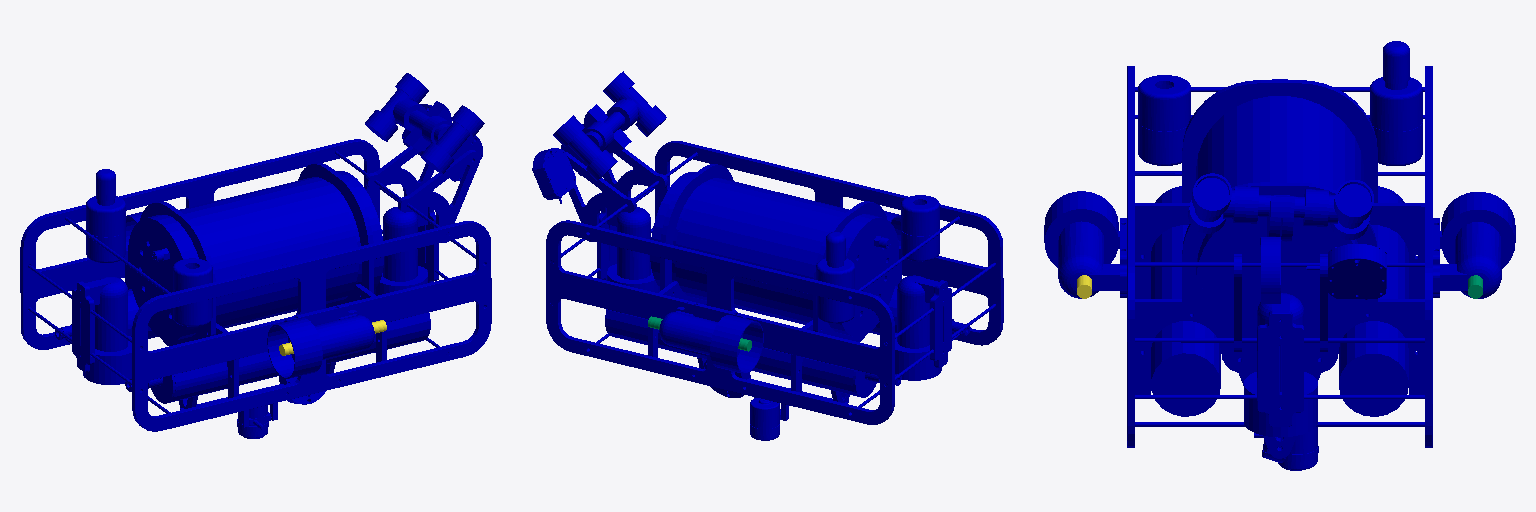
The robot description file, URDF, robot "charle_xacro":
<?xml version="1.0" ?>
<!-- =================================================================================== -->
<!-- |    This document was autogenerated by xacro from charle.xacro                   | -->
<!-- |    EDITING THIS FILE BY HAND IS NOT RECOMMENDED                                 | -->
<!-- =================================================================================== -->
<robot name="charle_xacro" xmlns:controller="http://playerstage.sourceforge.net/gazebo/xmlschema/#controller" xmlns:interface="http://playerstage.sourceforge.net/gazebo/xmlschema/#interface" xmlns:sensor="http://playerstage.sourceforge.net/gazebo/xmlschema/#sensor" xmlns:xacro="http://www.ros.org/wiki/xacro">
  <!--<xacro:include filename="$(find erratic_description)/urdf/erratic_hokuyo_laser.xacro" />-->
  <!-- BASE LASER ATTACHMENT -->
  <!--<erratic_hokuyo_laser parent="sonarDato">
  		<origin xyz="0.0 0 0.0" rpy="0 0 0" />
  	</erratic_hokuyo_laser>

   -->
  <link name="base_footprint">
    <visual>
      <geometry>
        <box size="0.001 0.001 0.001"/>
      </geometry>
      <origin rpy="0 0 0" xyz="0 0 0"/>
    </visual>
    <collision>
      <geometry>
        <box size="0.2 .3 0.1"/>
      </geometry>
    </collision>
    <inertial>
      <mass value="0.0001"/>
      <inertia ixx="1.0" ixy="0.0" ixz="0.0" iyy="1.0" iyz="0.0" izz="1.0"/>
    </inertial>
  </link>
  <gazebo reference="base_footprint">
    <material>Gazebo/Green</material>
    <turnGravityOff>false</turnGravityOff>
  </gazebo>
  <joint name="base_footprint_joint" type="fixed">
    <origin xyz="0 0 0"/>
    <parent link="base_footprint"/>
    <child link="base_link"/>
  </joint>
  <link name="base_link">
    <visual>
      <origin rpy="1.57 0 0" xyz="0 0 0"/>
      <geometry>
        <mesh filename="package://charle_description/urdf/AVORA_body_stl.STL" scale="0.001 0.001 0.001"/>
      </geometry>
      <material name="blue">
        <color rgba="0 0 .8 1"/>
      </material>
    </visual>
    <collision>
      <geometry>
        <box size="0.2 .3 0.1"/>
      </geometry>
    </collision>
    <inertial>
      <mass value="0.5"/>
      <inertia ixx="1.0" ixy="0.0" ixz="0.0" iyy="1.0" iyz="0.0" izz="1.0"/>
    </inertial>
  </link>
  <!-- thrusters -->
  <joint name="base_to_thruster_1" type="continuous">
    <parent link="base_link"/>
    <child link="thruster_1"/>
    <origin rpy="0 1.5707 0" xyz="0.0 0.25 0"/>
    <axis xyz="0 0 1"/>
  </joint>
  <link name="thruster_1">
    <visual>
      <geometry>
        <cylinder length="0.2" radius="0.01"/>
      </geometry>
      <!-- <origin rpy="0 1.5 0" xyz="0.1 0.1 0"/> -->
      <origin rpy="0 0 0" xyz="0 0 0"/>
    </visual>
    <collision>
      <geometry>
        <cylinder length="0.2" radius="0.01"/>
      </geometry>
    </collision>
    <inertial>
      <mass value="0.5"/>
      <inertia ixx="1.0" ixy="0.0" ixz="0.0" iyy="1.0" iyz="0.0" izz="1.0"/>
    </inertial>
  </link>
  <joint name="base_to_thruster_2" type="continuous">
    <parent link="base_link"/>
    <child link="thruster_2"/>
    <origin rpy="0 1.5707 0" xyz="0.0 -0.25 0"/>
    <axis xyz="0 0 1"/>
  </joint>
  <link name="thruster_2">
    <visual>
      <geometry>
        <cylinder length="0.2" radius="0.01"/>
      </geometry>
      <!-- <origin rpy="0 1.5 0" xyz="0.1 0.1 0"/> -->
      <origin rpy="0 0 0" xyz="0 0 0"/>
    </visual>
    <collision>
      <geometry>
        <cylinder length="0.2" radius="0.01"/>
      </geometry>
    </collision>
    <inertial>
      <mass value="0.5"/>
      <inertia ixx="1.0" ixy="0.0" ixz="0.0" iyy="1.0" iyz="0.0" izz="1.0"/>
    </inertial>
  </link>
  <!--  -->
  <joint name="sonar_to_base_link" type="revolute">
    <parent link="base_link"/>
    <child link="sonar"/>
    <origin rpy="1.5707 0 0" xyz="-0.0 -0 -0.205"/>
    <axis xyz="1 0 0"/>
    <limit effort="1000.0" lower="-1.57" upper="1.57" velocity="0.5"/>
  </joint>
  <link name="sonar">
    <visual>
      <origin rpy="0 0 0" xyz="0 0.0 -0.0"/>
      <geometry>
        <mesh filename="package://charle_description/urdf/AVORA_sonar_stl.STL" scale="0.001 0.001 0.001"/>
      </geometry>
      <material name="blue">
        <color rgba="0 0 .8 1"/>
      </material>
    </visual>
    <collision>
      <geometry>
        <cylinder length="0.01" radius="0.03"/>
      </geometry>
    </collision>
    <inertial>
      <mass value="0.5"/>
      <inertia ixx="1.0" ixy="0.0" ixz="0.0" iyy="1.0" iyz="0.0" izz="1.0"/>
    </inertial>
  </link>
  <joint name="sonarDato_to_sonar" type="fixed">
    <parent link="sonar"/>
    <child link="sonarDato"/>
    <origin rpy="1.57 0 0" xyz="-0.0 -0.075 -0.02"/>
  </joint>
  <link name="sonarDato">
    <visual>
      <origin rpy="0 0 0" xyz="-0.0 -0.0 0.0"/>
      <geometry>
        <cylinder length="0.02" radius="0.02"/>
      </geometry>
      <material name="blue">
        <color rgba="0 0 .8 1"/>
      </material>
    </visual>
  </link>
  <joint name="laserDato_to_sonar" type="fixed">
    <parent link="sonar"/>
    <child link="laserDato"/>
    <origin rpy="1.57 3.14 3.14" xyz="-0.0 -0.075 -0.02"/>
  </joint>
  <link name="laserDato">
    <visual>
      <origin rpy="0 0 0" xyz="-0.0 -0.0 0.0"/>
      <geometry>
        <cylinder length="0.02" radius="0.02"/>
      </geometry>
      <material name="blue">
        <color rgba="0 0 .8 1"/>
      </material>
    </visual>
  </link>
  <joint name="servo_head_to_base_link" type="revolute">
    <parent link="base_link"/>
    <child link="servo_head"/>
    <origin rpy="0 0.7 3.1414" xyz="0.38 0 0.16"/>
    <axis xyz="0 1 0"/>
    <limit effort="1000.0" lower="-1.5" upper="0.5" velocity="0.5"/>
  </joint>
  <link name="servo_head">
    <visual>
      <origin rpy="1.57 0 0" xyz="0 0 0"/>
      <geometry>
        <mesh filename="package://charle_description/urdf/AVORA_servo_head_stl.STL" scale="0.001 0.001 0.001"/>
      </geometry>
      <material name="blue">
        <color rgba="0 0 .8 1"/>
      </material>
    </visual>
  </link>
  <joint name="head_to_servo_head" type="revolute">
    <parent link="servo_head"/>
    <child link="head"/>
    <origin rpy="0 0 3.14" xyz="0 0 0.04"/>
    <axis xyz="0 0 1"/>
    <limit effort="1000.0" lower="0.8" upper="2.4" velocity="0.5"/>
  </joint>
  <link name="head">
    <visual>
      <origin rpy="1.54 0 -1.54" xyz="0 0 0"/>
      <geometry>
        <mesh filename="package://charle_description/urdf/AVORA_head_stl.STL" scale="0.001 0.001 0.001"/>
      </geometry>
      <material name="blue">
        <color rgba="0 0 .8 1"/>
      </material>
    </visual>
  </link>
  <!--
	<gazebo reference="thuster_1">
  		<material>Erratic/Black</material>
 	</gazebo>

 	<gazebo reference="thruster_2">
  		<material>Erratic/Black</material>
	</gazebo>


	<gazebo>
	 		<controller:diffdrive_plugin name="differential_drive_controller" plugin="libavora_diffdrive_plugin.so">
	    		<alwaysOn>true</alwaysOn>
	    		<update>10</update>
	    		<updateRate>10</updateRate>
	    		<leftJoint>base_to_thruster_1</leftJoint>
	    		<rightJoint>base_to_thruster_2</rightJoint>
	    		<wheelSeparation>0.33</wheelSeparation>
	    		<wheelDiameter>0.1</wheelDiameter>
	     		<torque>100</torque>
	     		<interface:position name="position_iface_0"/>
	 		<topicName>cmd_vel</topicName>
		</controller:diffdrive_plugin>

	</gazebo>
-->
</robot>

--- Render facts (derived) ---
3 views of the same robot in one strip: view 1: azimuth 30°, elevation 25°; view 2: azimuth 150°, elevation 25°; view 3: azimuth 270°, elevation 25° (orthographic).
Robot: charle_xacro — 9 links, 8 joints (3 revolute, 2 continuous, 3 fixed); root link base_footprint; default pose: all joints at 0 but 1 set to mid-range because 0 is outside their limits (head_to_servo_head = 1.6).
Links seen in each view (by area): view 1: base_link, head, sonar; view 2: base_link, head, sonar; view 3: base_link, head, servo_head, sonar.
Link boxes in pixels (x1=…): base_link: x1=20, y1=104, x2=491, y2=431; head: x1=365, y1=73, x2=484, y2=173; sonar: x1=180, y1=384, x2=283, y2=437; base_link: x1=532, y1=141, x2=1003, y2=424; head: x1=553, y1=71, x2=666, y2=180; sonar: x1=747, y1=378, x2=847, y2=440; base_link: x1=1044, y1=41, x2=1515, y2=462; head: x1=1188, y1=173, x2=1373, y2=241; servo_head: x1=1260, y1=237, x2=1280, y2=303; sonar: x1=1254, y1=427, x2=1318, y2=469.
Size in the robot's own frame: 0.7817 by 0.602 by 0.5756 metres.
Meshes: 4 distinct files referenced, 4 mesh visuals loaded (4 binary STL).
